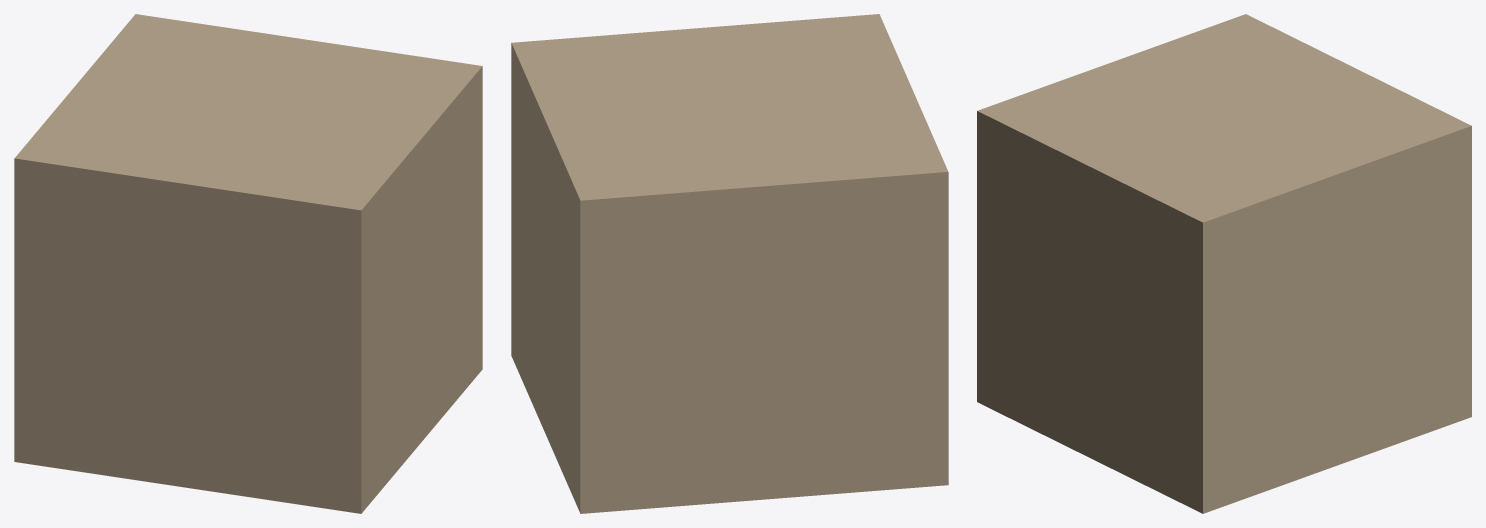
Rendered from bld_106339093.dae.
3 renders of one model, left to right at view 1: azimuth 30°, elevation 25°; view 2: azimuth 150°, elevation 25°; view 3: azimuth 270°, elevation 25°, orthographic. The views are drawn at different scales.
Visible parts, largest first — view 1: bld_106339093; view 2: bld_106339093; view 3: bld_106339093.
Boxes of the visible parts, <box> form: bld_106339093: <box>14,14,482,513</box>; bld_106339093: <box>511,14,948,513</box>; bld_106339093: <box>977,14,1471,513</box>.
Bounding box in the file's own units: 12.29 × 12.31 × 8.
